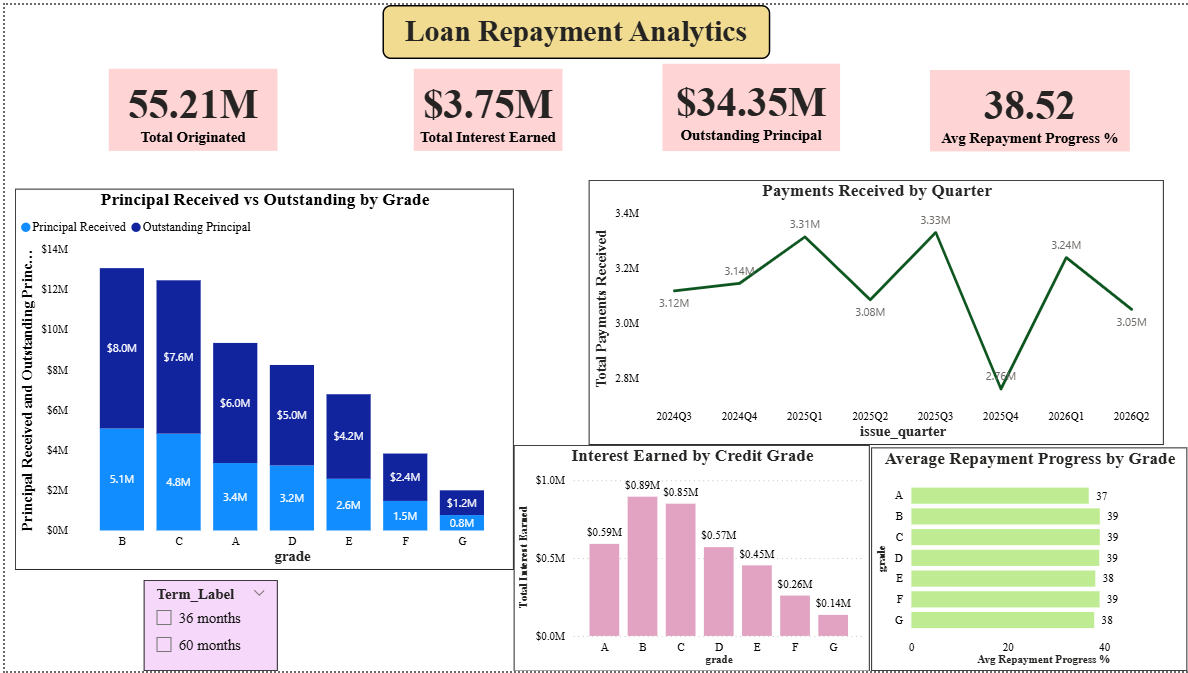

The page's visual inventory and layout, read from the dashboard file:
{"tool":"powerbi","page":{"name":"Repayment & Financial","canvas":[1280,720],"ordinal":2},"visuals":[{"type":"card","fields":{"Values":["Loan Detail.Total Originated"]},"box":[112.2,68.9,182.4,89.2],"z":0},{"type":"card","fields":{"Values":["Loan Detail.Total Interest Earned"]},"box":[441.9,68.9,160.8,89.2],"z":1000},{"type":"card","fields":{"Values":["Loan Detail.Outstanding Principal"]},"box":[710.8,63.5,191.9,94.6],"z":2000},{"type":"card","fields":{"Values":["Loan Detail.Avg Repayment Progress %"]},"box":[1000,70.3,216.2,87.8],"z":3000},{"type":"clusteredColumnChart","title":"Interest Earned by Credit Grade","fields":{"Category":["Loan Detail.grade"],"Y":["Loan Detail.Total Interest Earned"]},"box":[550,475.4,385.1,244.6],"z":4000},{"type":"lineChart","title":"Payments Received by Quarter","fields":{"Category":["Loan Detail.issue_quarter"],"Y":["Loan Detail.Total Payments Received"]},"box":[631.1,189.2,621.6,286.5],"z":5000},{"type":"clusteredBarChart","title":"Average Repayment Progress by Grade","fields":{"Category":["Loan Detail.grade"],"Y":["Loan Detail.Avg Repayment Progress %"]},"box":[936.5,478.1,341.9,241.9],"z":5001},{"type":"columnChart","title":"Principal Received vs Outstanding by Grade","fields":{"Category":["Loan Detail.grade"],"Y":["Loan Detail.Principal Received","Loan Detail.Outstanding Principal"]},"box":[10.8,198.6,539.2,412.2],"z":5002},{"type":"slicer","fields":{"Values":["Loan Detail.term_label"]},"box":[150,621.6,144.6,98.6],"z":5003},{"type":"textbox","box":[408.1,0,418.9,58.1],"z":5004}]}

Visuals, with their boxes in screenshot pixels (x1, y1, x2, y2), scaled from the page's 1280x720 canvas onto the 1188x673 screenshot:
card - Loan Detail.Total Originated: Rect(104, 64, 273, 148)
card - Loan Detail.Total Interest Earned: Rect(410, 64, 559, 148)
card - Loan Detail.Outstanding Principal: Rect(660, 59, 838, 148)
card - Loan Detail.Avg Repayment Progress %: Rect(928, 66, 1129, 148)
"Interest Earned by Credit Grade" clusteredColumnChart: Rect(510, 444, 868, 672)
"Payments Received by Quarter" lineChart: Rect(586, 177, 1163, 445)
"Average Repayment Progress by Grade" clusteredBarChart: Rect(869, 447, 1187, 672)
"Principal Received vs Outstanding by Grade" columnChart: Rect(10, 186, 510, 571)
slicer - Loan Detail.term_label: Rect(139, 581, 273, 672)
textbox: Rect(379, 0, 768, 54)
